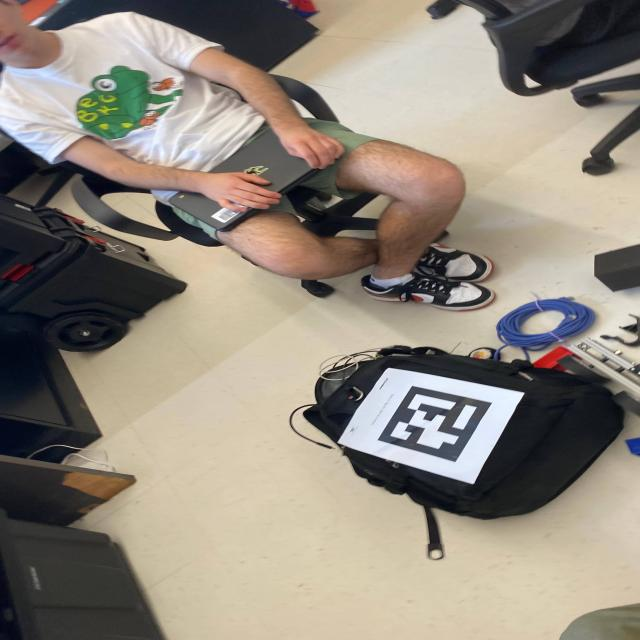blue-specimen: (626, 438, 640, 456)
red-specimen: (533, 346, 572, 369)
